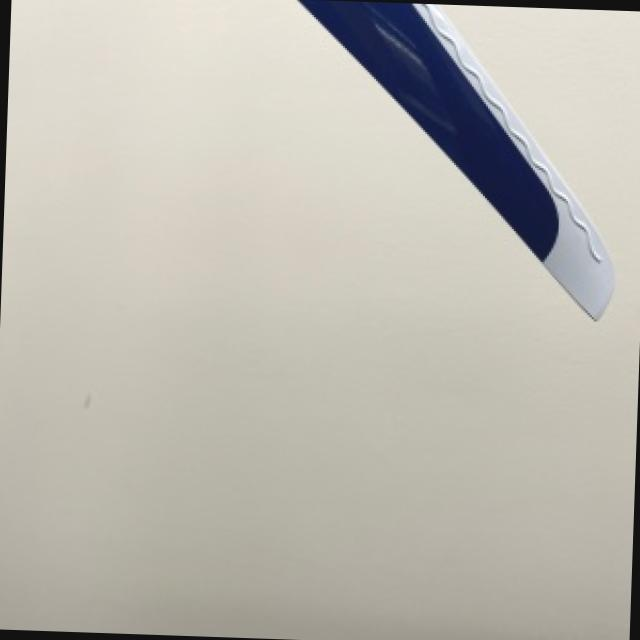healthy: (298, 0, 609, 315)
